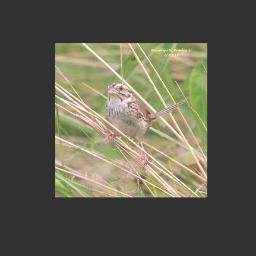Sparrow: (103, 83, 187, 171)
